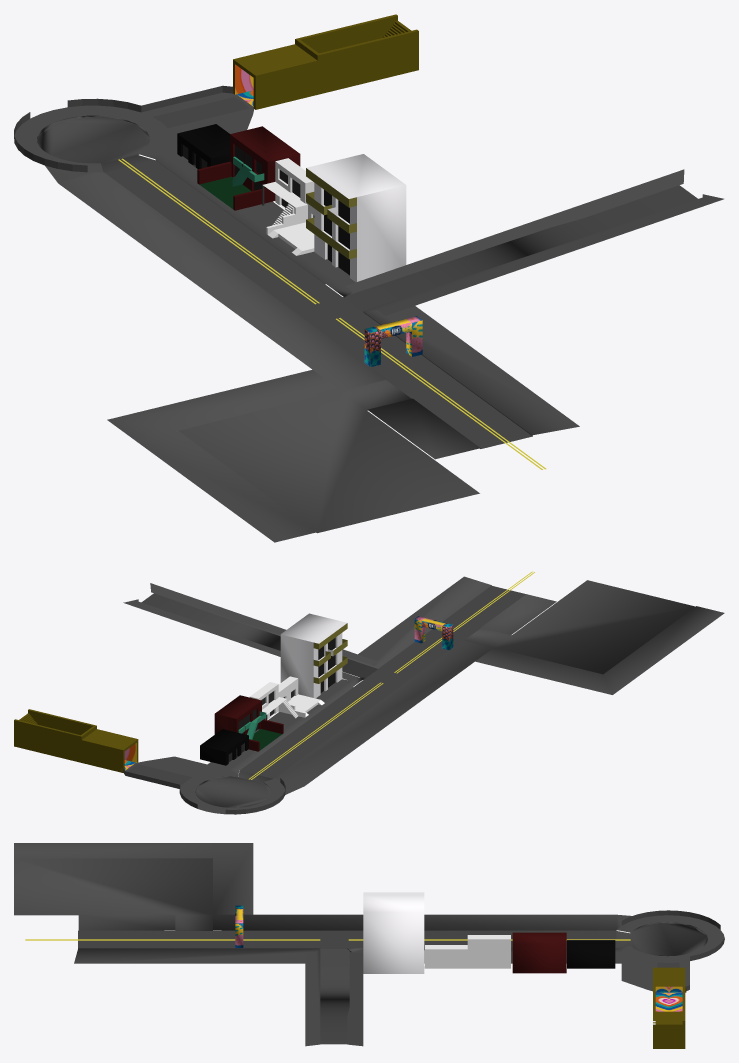
File: EscalerasRegatas + Costanera.glb
The picture shows the model from 3 angles, top to bottom: view 1: azimuth 30°, elevation 25°; view 2: azimuth 150°, elevation 25°; view 3: azimuth 270°, elevation 25°; orthographic projection. The views are drawn at different scales.
Parts seen in each view (by area): view 1: Plane, Plane.002, Edificio-4, Edificio-2, Edificio-3, Edificio-1, Plane.003, Plane.001; view 2: Plane, Plane.002, Edificio-4, Edificio-2, Edificio-3, Edificio-1, Plane.003, Plane.001; view 3: Plane, Edificio-4, Plane.002, Edificio-3, Edificio-2, Edificio-1, Plane.003, Plane.001.
Boxes of the visible parts, x1=… form: Plane: x1=14, y1=85, x2=723, y2=542; Plane.002: x1=233, y1=14, x2=418, y2=109; Edificio-4: x1=306, y1=154, x2=406, y2=282; Edificio-2: x1=197, y1=126, x2=300, y2=210; Edificio-3: x1=262, y1=158, x2=314, y2=255; Edificio-1: x1=177, y1=124, x2=229, y2=169; Plane.003: x1=118, y1=158, x2=546, y2=469; Plane.001: x1=364, y1=316, x2=422, y2=366; Plane: x1=121, y1=576, x2=724, y2=814; Plane.002: x1=14, y1=709, x2=138, y2=772; Edificio-4: x1=280, y1=613, x2=347, y2=698; Edificio-2: x1=214, y1=695, x2=283, y2=751; Edificio-3: x1=249, y1=676, x2=324, y2=719; Edificio-1: x1=200, y1=729, x2=248, y2=765; Plane.003: x1=248, y1=571, x2=534, y2=779; Plane.001: x1=414, y1=616, x2=453, y2=650; Plane: x1=14, y1=843, x2=724, y2=1046; Edificio-4: x1=363, y1=892, x2=424, y2=973; Plane.002: x1=653, y1=967, x2=685, y2=1048; Edificio-3: x1=424, y1=935, x2=510, y2=968; Edificio-2: x1=512, y1=932, x2=566, y2=973; Edificio-1: x1=567, y1=940, x2=615, y2=968; Plane.003: x1=25, y1=939, x2=630, y2=940; Plane.001: x1=235, y1=905, x2=243, y2=947.
Size of the model in its own units: 200 by 26.21 by 264.
Materials: 19 (2 with a texture image).
